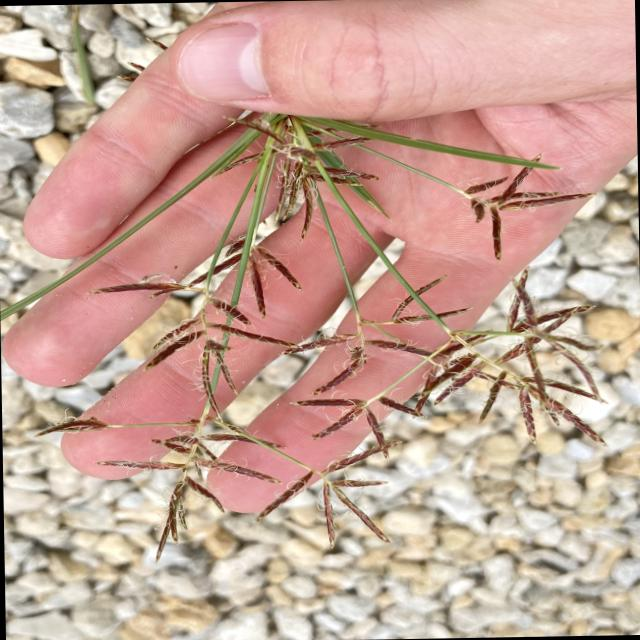cyperus: (22, 106, 616, 564)
